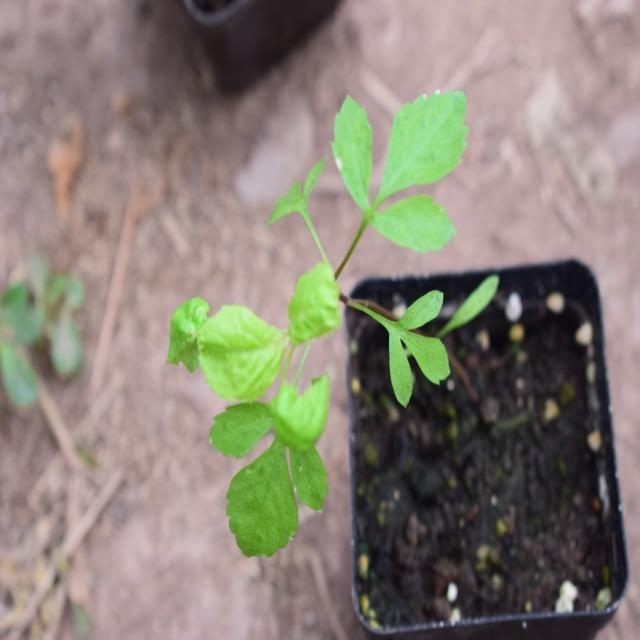Bidens pilosa: (176, 56, 485, 562)
